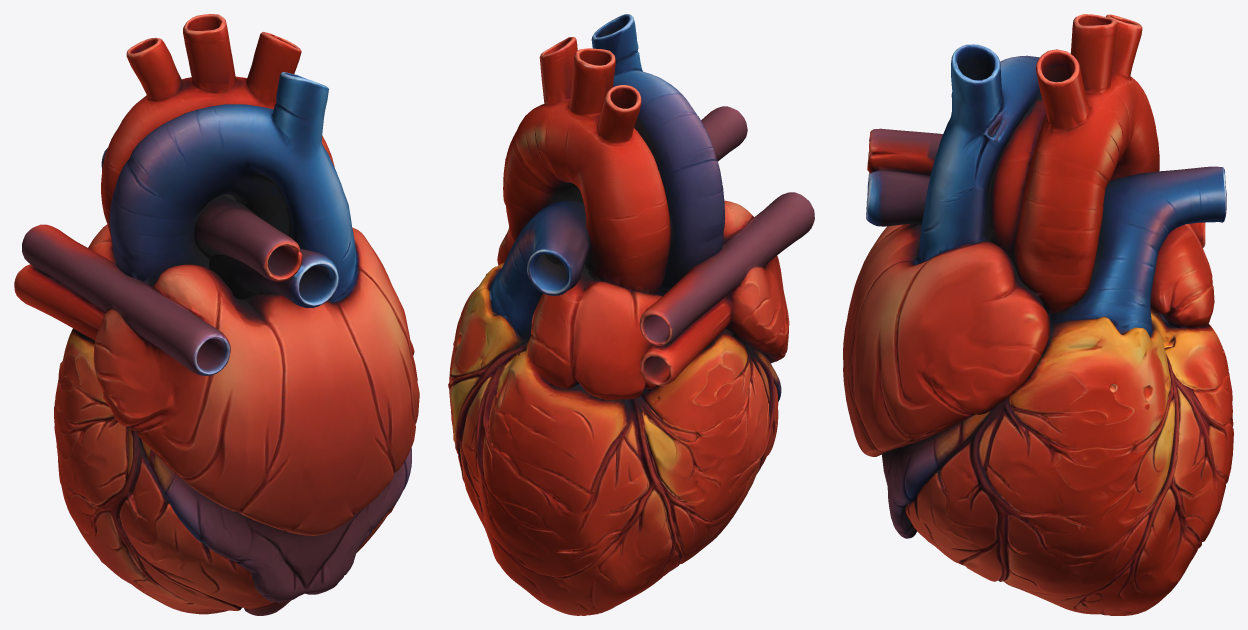
Rendered from 63024d85-aac0-4d7e-b139-fbe950326315.glb.
3 views of the same model, side by side, from view 1: azimuth 30°, elevation 25°; view 2: azimuth 150°, elevation 25°; view 3: azimuth 270°, elevation 25° (orthographic). The views are drawn at different scales.
Parts seen in each view (by area): view 1: tripo_node_c495e2a4-3be4-43a7-bc8d-01b83b1b1977; view 2: tripo_node_c495e2a4-3be4-43a7-bc8d-01b83b1b1977; view 3: tripo_node_c495e2a4-3be4-43a7-bc8d-01b83b1b1977.
Boxes of the visible parts, box(x1,y1,x2,y2) form: tripo_node_c495e2a4-3be4-43a7-bc8d-01b83b1b1977: box(14, 14, 419, 615); tripo_node_c495e2a4-3be4-43a7-bc8d-01b83b1b1977: box(448, 14, 814, 615); tripo_node_c495e2a4-3be4-43a7-bc8d-01b83b1b1977: box(843, 14, 1233, 615).
Size of the model in its own units: 0.5376 by 1 by 0.6011.
1 material, 1 textured.
